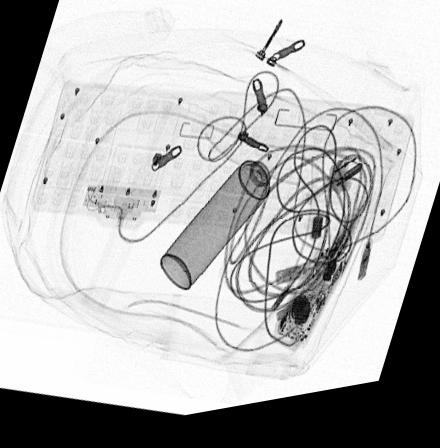Sprayer: (158, 147, 286, 295)
